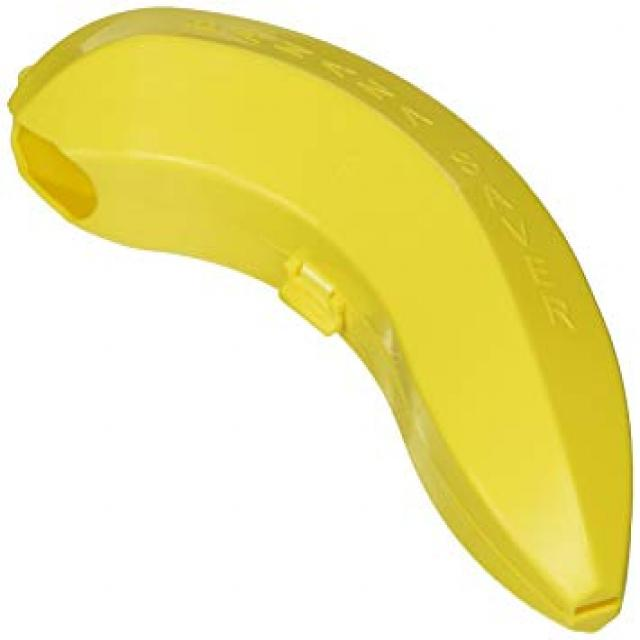banana: (0, 1, 629, 636)
